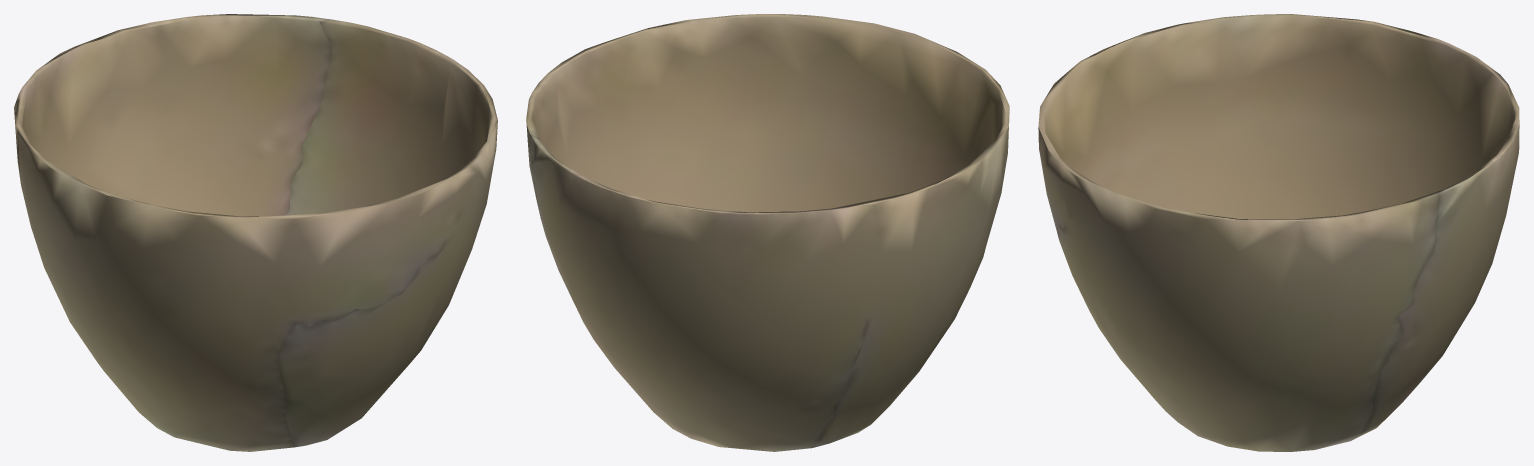
The model's file is Ecoforms_Planter_Bowl_Cole_Hardware-medium.glb.
The picture shows the model from 3 angles, left to right: view 1: azimuth 30°, elevation 25°; view 2: azimuth 150°, elevation 25°; view 3: azimuth 270°, elevation 25°; orthographic projection.
Parts seen in each view (by area): view 1: Ecoforms_Planter_Bowl_Cole_Hardware; view 2: Ecoforms_Planter_Bowl_Cole_Hardware; view 3: Ecoforms_Planter_Bowl_Cole_Hardware.
Part boxes in pixels (left/top/right/bottom): Ecoforms_Planter_Bowl_Cole_Hardware: left=14, top=14, right=497, bottom=451; Ecoforms_Planter_Bowl_Cole_Hardware: left=526, top=14, right=1009, bottom=451; Ecoforms_Planter_Bowl_Cole_Hardware: left=1038, top=14, right=1519, bottom=451.
Bounding box in the file's own units: 0.1799 × 0.1213 × 0.18.
1 material, 1 textured.
